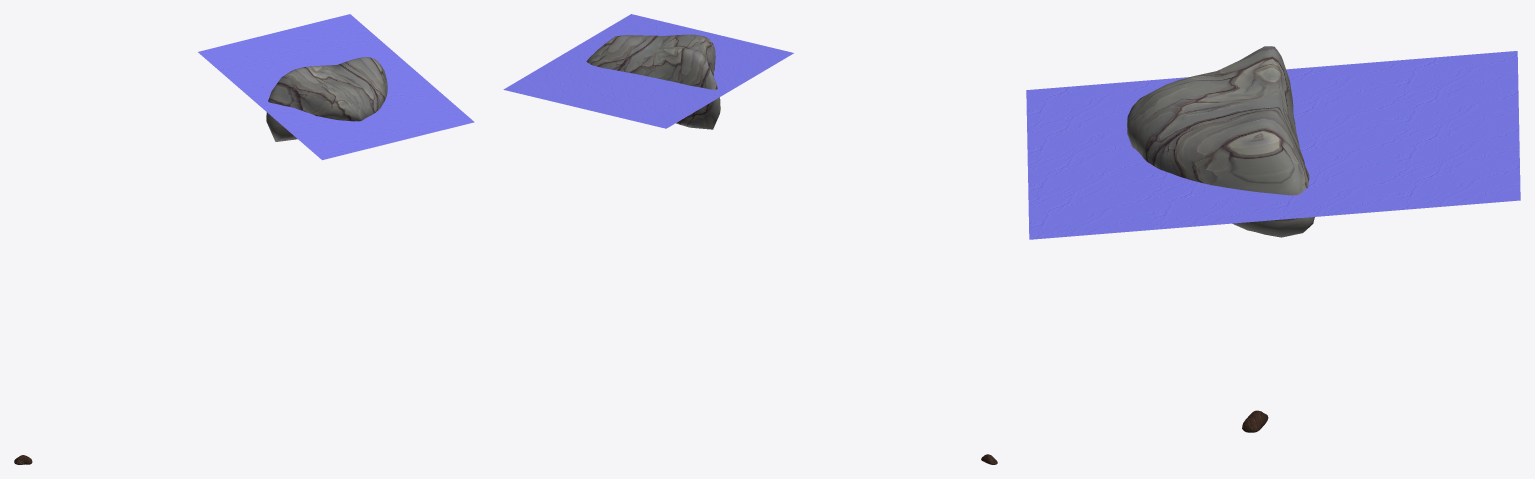
The model's file is rocks.obj.
3 views of the same model, side by side, from view 1: azimuth 30°, elevation 25°; view 2: azimuth 150°, elevation 25°; view 3: azimuth 270°, elevation 25° (orthographic). The views are drawn at different scales.
Parts seen in each view (by area): view 1: Plane, Box4; view 2: Plane, Box4; view 3: Plane, Box4.
Boxes of the visible parts, x1,y1,x2,y2 form: Plane: (198,14,474,160); Box4: (266,57,387,141); Plane: (503,14,793,128); Box4: (586,34,720,129); Plane: (1026,51,1520,239); Box4: (1127,46,1314,237).
Size of the model in its own units: 330 by 254 by 176.
Materials: 3 (3 with a texture image).
